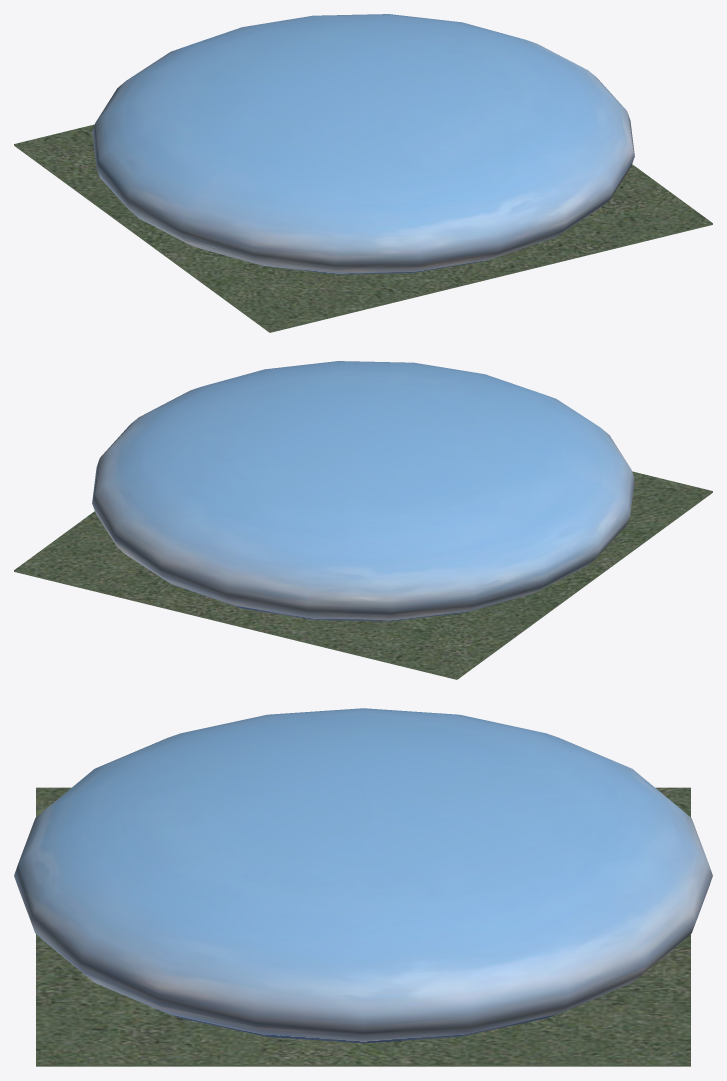
File: ground0313.fbx
3 views of the same model, one above another, from view 1: azimuth 30°, elevation 25°; view 2: azimuth 150°, elevation 25°; view 3: azimuth 270°, elevation 25° (orthographic). The views are drawn at different scales.
Parts seen in each view (by area): view 1: pSphere1, pCube1; view 2: pSphere1, pCube1; view 3: pSphere1, pCube1.
Part boxes in pixels (x1,y1,x2,y2): pSphere1: (92, 14, 634, 274); pCube1: (14, 124, 712, 332); pSphere1: (92, 361, 634, 621); pCube1: (14, 471, 712, 679); pSphere1: (14, 708, 712, 1043); pCube1: (36, 787, 690, 1066).
Bounding box in the file's own units: 16 × 4 × 16.
